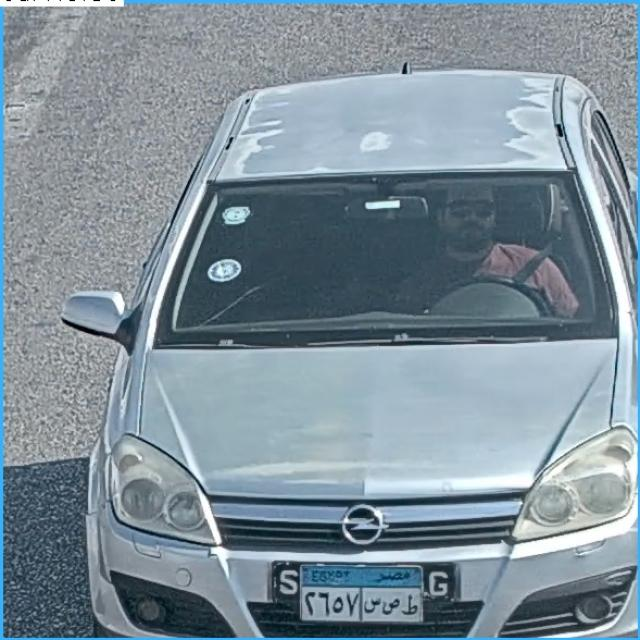windshield: (151, 183, 612, 334)
